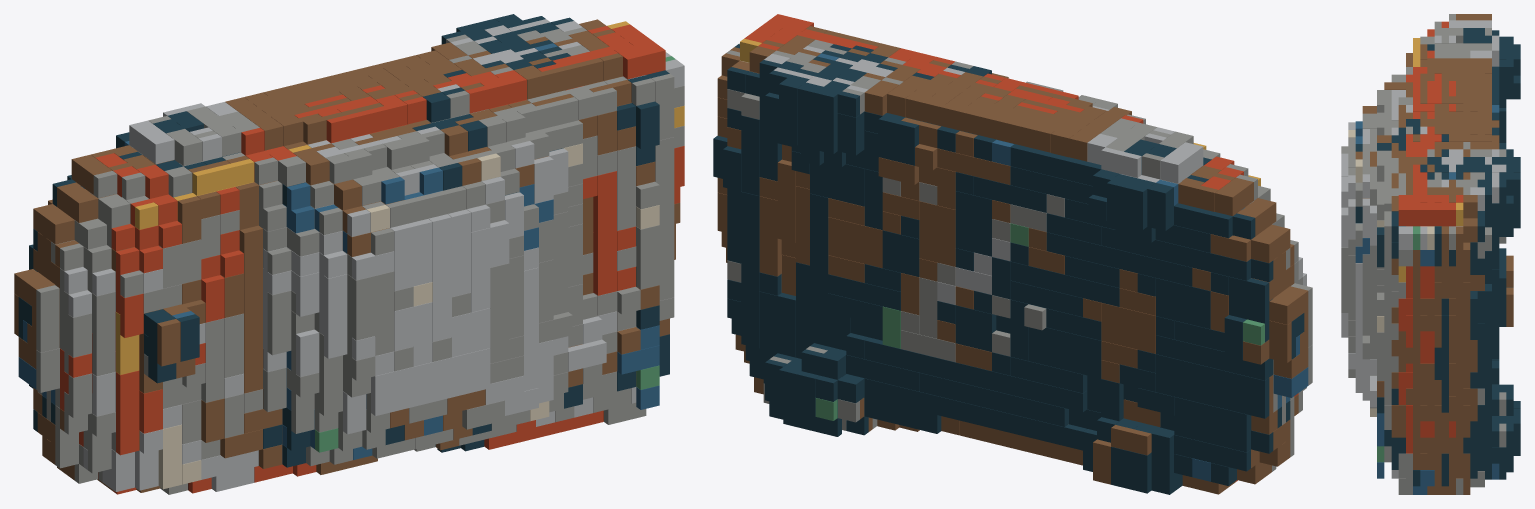
The model's file is lego.glb.
The picture shows the model from 3 angles, left to right: view 1: azimuth 30°, elevation 25°; view 2: azimuth 150°, elevation 25°; view 3: azimuth 270°, elevation 25°; orthographic projection. The views are drawn at different scales.
Visible parts, largest first — view 1: world; view 2: world; view 3: world.
Part boxes in pixels (left/top/right/bottom): world: left=14, top=14, right=684, bottom=494; world: left=713, top=14, right=1312, bottom=494; world: left=1341, top=14, right=1520, bottom=494.
Size of the model in its own units: 256 by 144 by 80.
